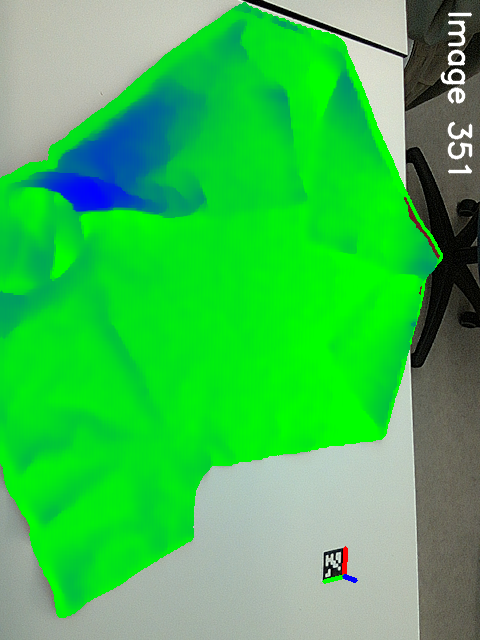V: (266, 164, 317, 209), (316, 323, 357, 371), (300, 219, 340, 258)
